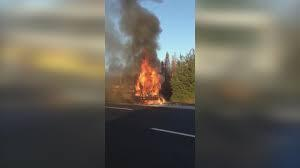fire: (132, 56, 168, 105)
